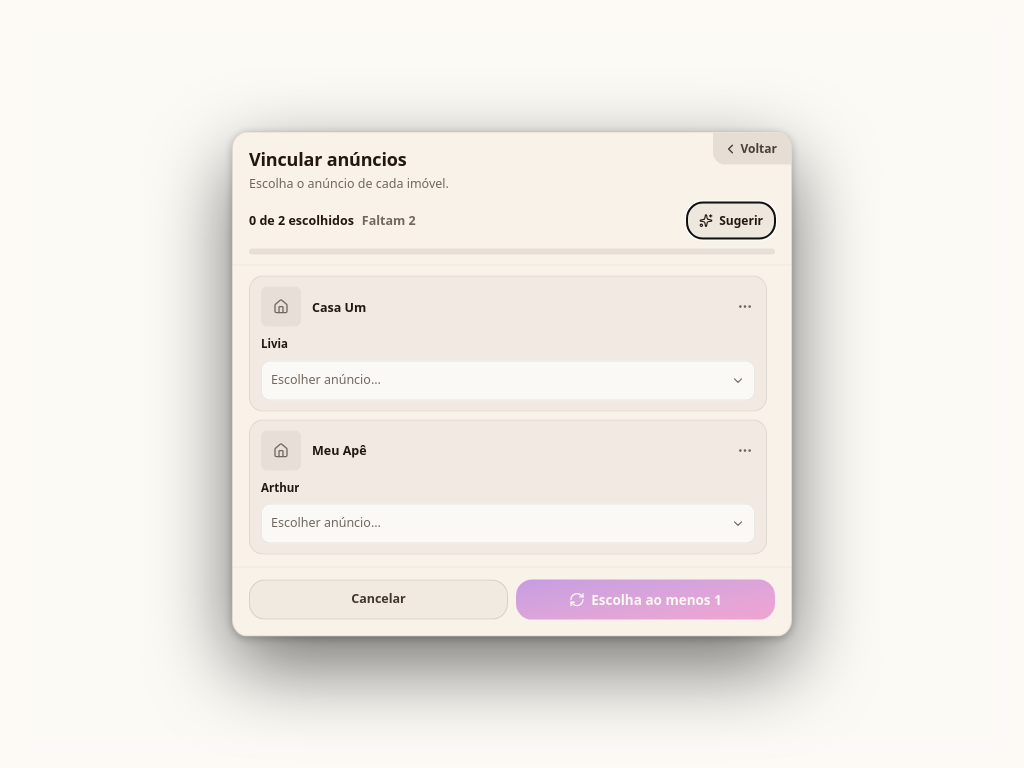
Test: sincronizar em massa (de → para) › uma falha não derruba as demais e aparece na lista do que faltou
The width and height of the screenshot is (1024, 768).
Check: the heading "Vincular anúncios" is shown, box [249,147,406,171]
Check: the text "Escolher anúncio…" is shown 2 times, box [271,371,381,388]; [271,514,381,531]
Step 1. Click the button "Sugerir" → [731, 221], box [687,203,775,239]
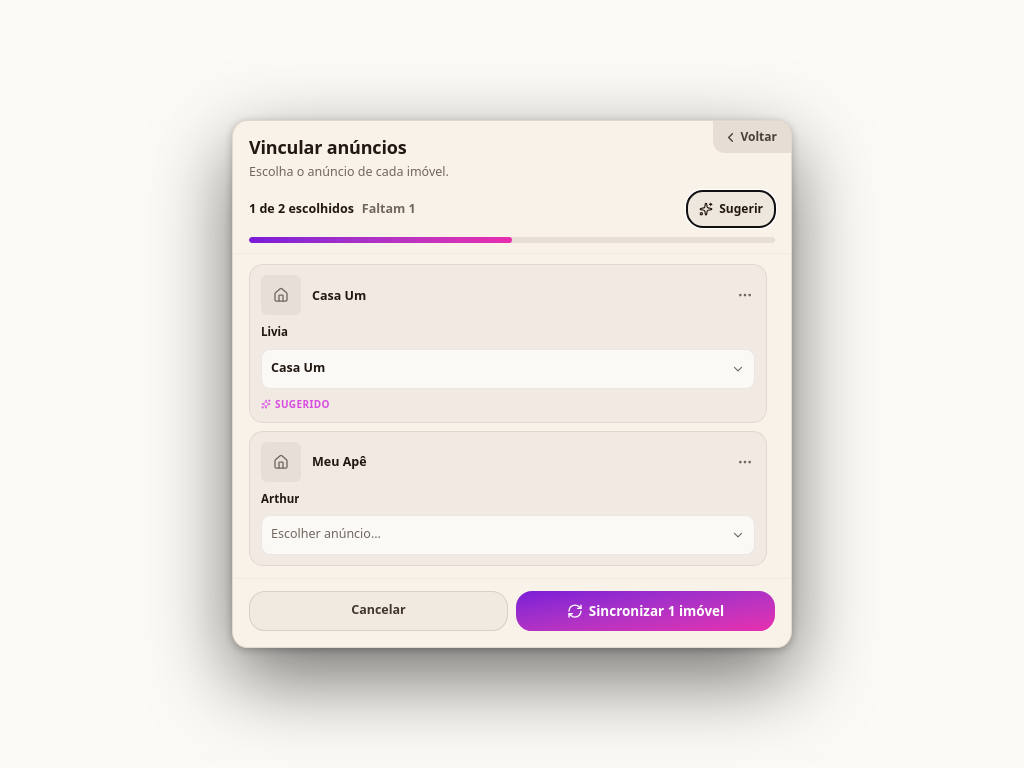
Check: the button "Sincronizar 1 imóvel" is shown, box [516,591,775,631]
Step 2. Click the button "Escolher anúncio…" → [326, 534], box [261,515,755,555]
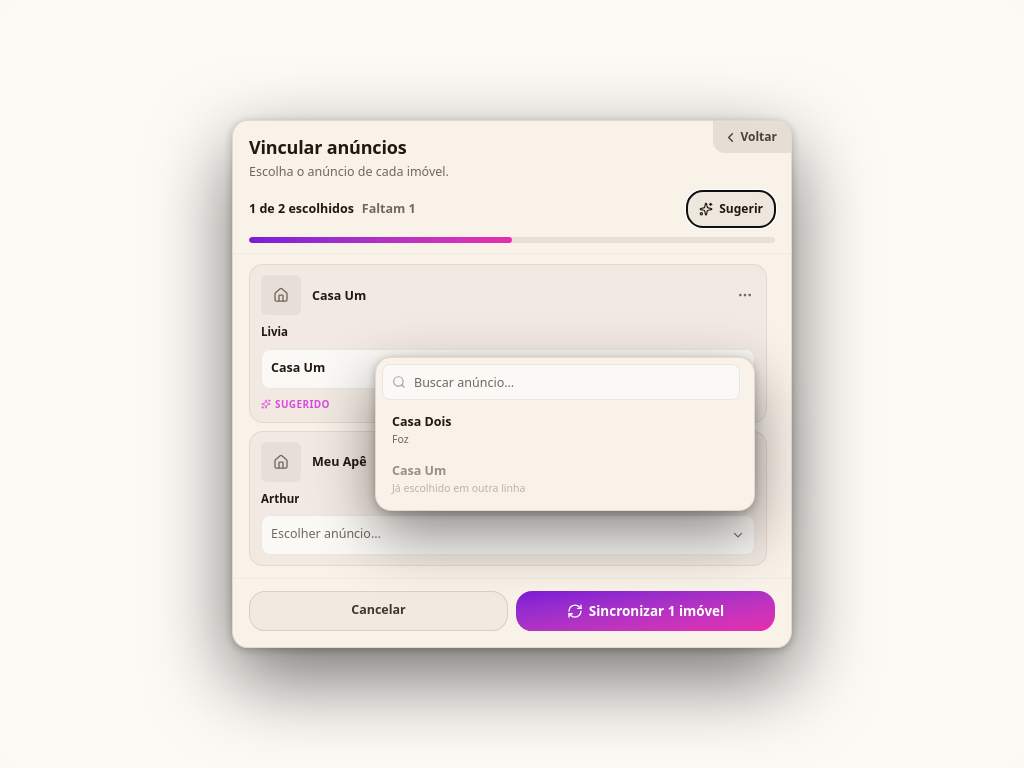
Check: the text "Casa Dois" is shown
Step 3. Click the text "Casa Dois" → [422, 422], box [392,413,452,430]
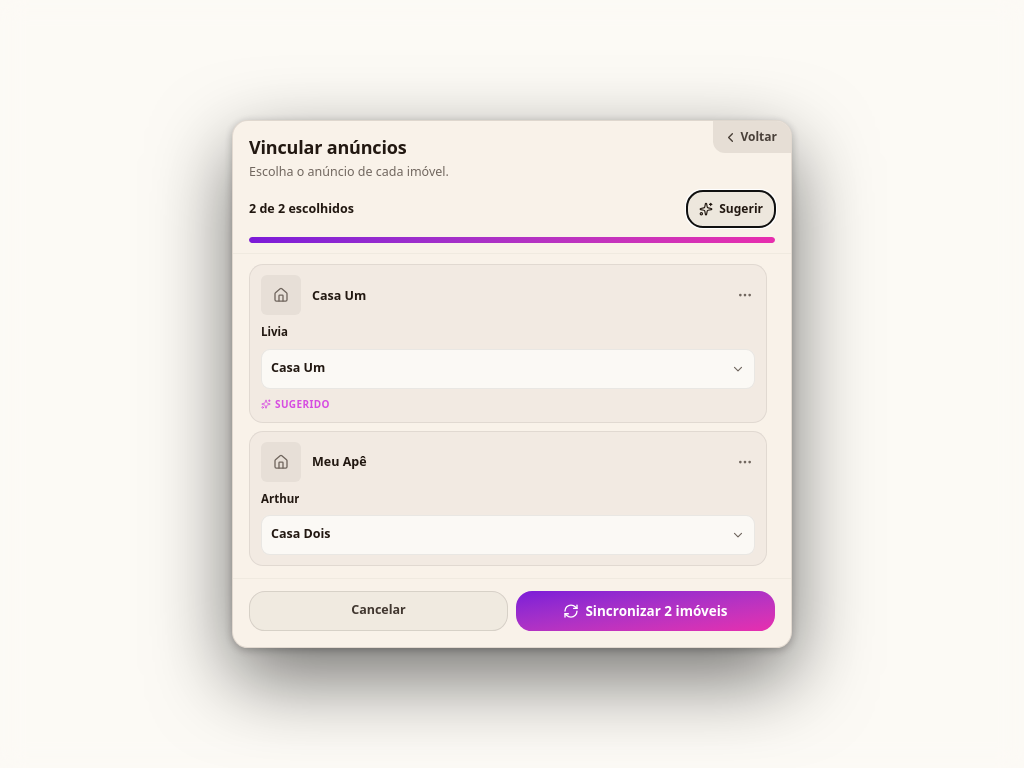
Check: the button "Sincronizar 2 imóveis" is shown
Step 4. Click the button "Sincronizar 2 imóveis" → [646, 611], box [516,591,775,631]
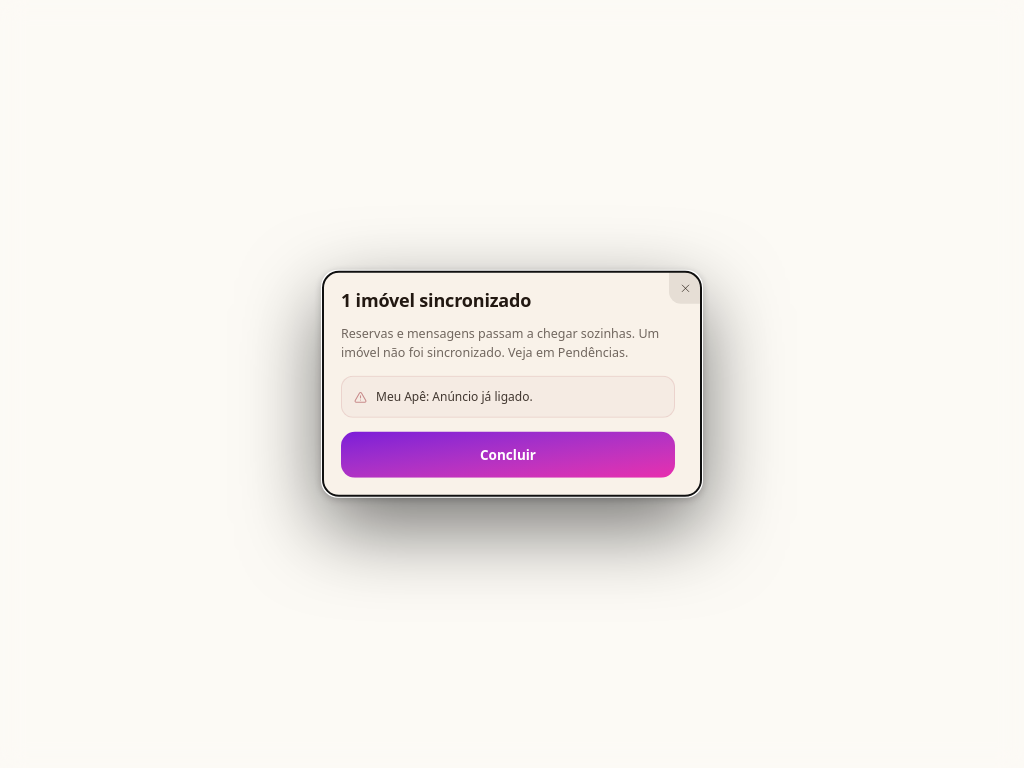
Check: the heading "1 imóvel sincronizado" is shown, box [341,290,531,312]
Check: the text "Meu Apê: Anúncio já ligado." is shown, box [354,388,533,405]
Check: the text "Um imóvel não foi sincronizado" is shown, box [341,324,659,361]
